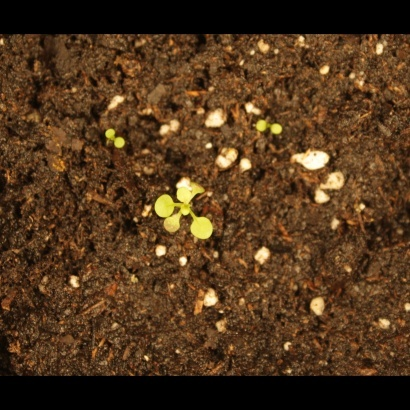leaf: (190, 216, 216, 243), (154, 192, 177, 220), (111, 137, 134, 160), (96, 120, 119, 143), (246, 116, 269, 139), (268, 113, 291, 136), (163, 215, 186, 238), (172, 186, 195, 209), (192, 177, 215, 200), (178, 199, 201, 222)
